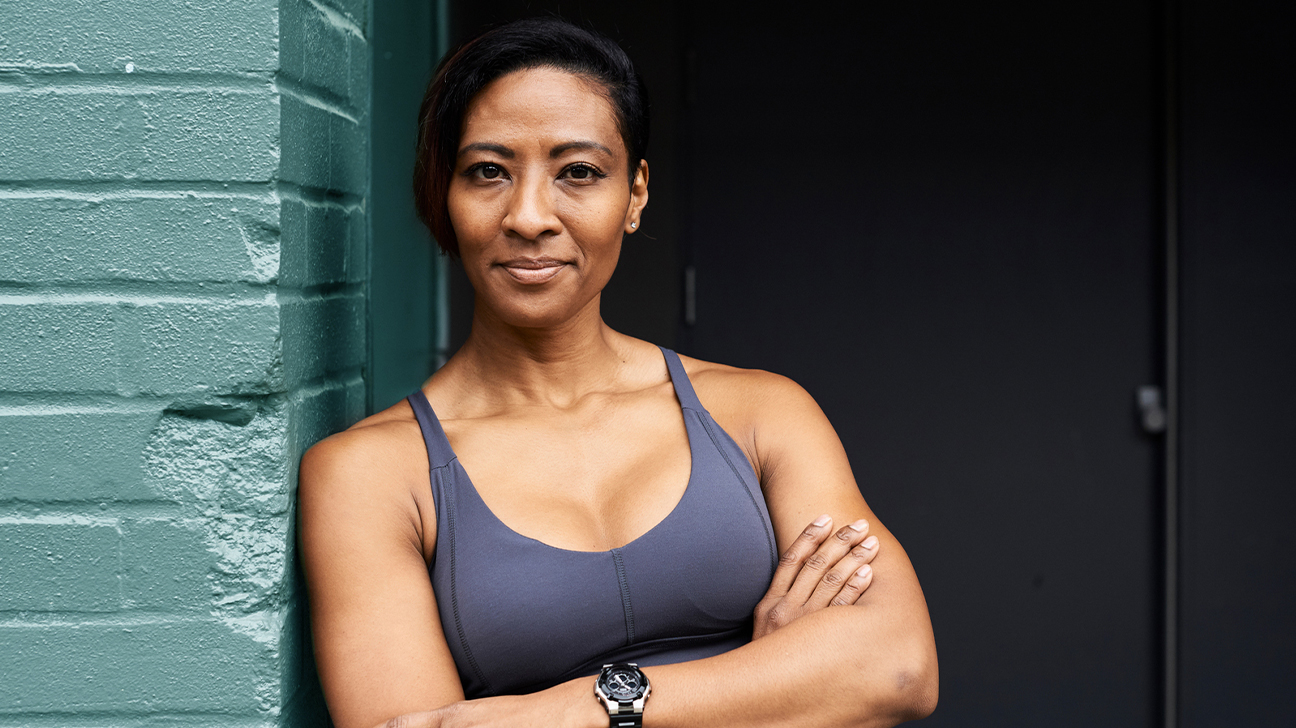Without Helmet: (404, 23, 667, 365)
